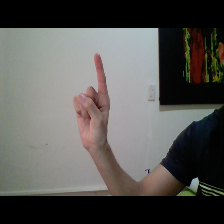2T: (72, 46, 117, 153)
